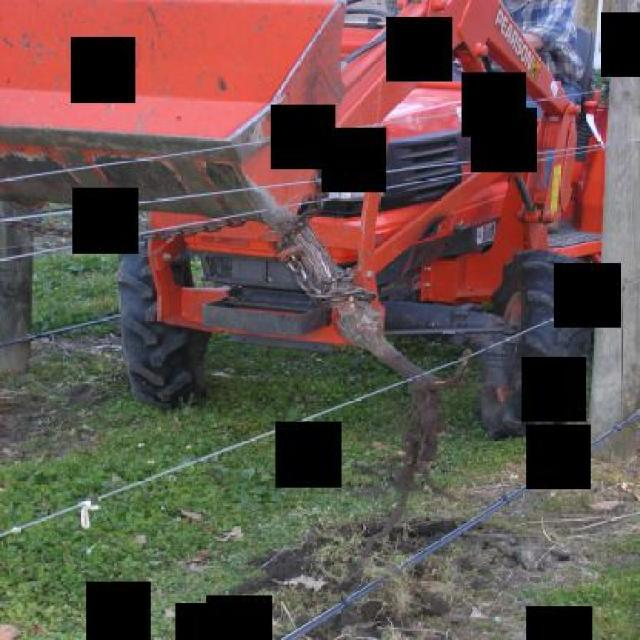Tratores - v5 YOLO V8L 2024-11-13: (6, 0, 639, 568)
